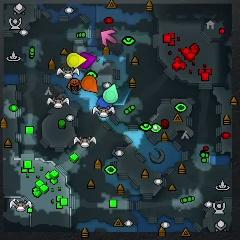p1: (98, 96, 112, 109)
p2: (104, 83, 118, 104)
p3: (78, 52, 96, 68)
p4: (66, 53, 86, 68)
p5: (82, 75, 97, 92)
x1: (101, 29, 117, 45)
